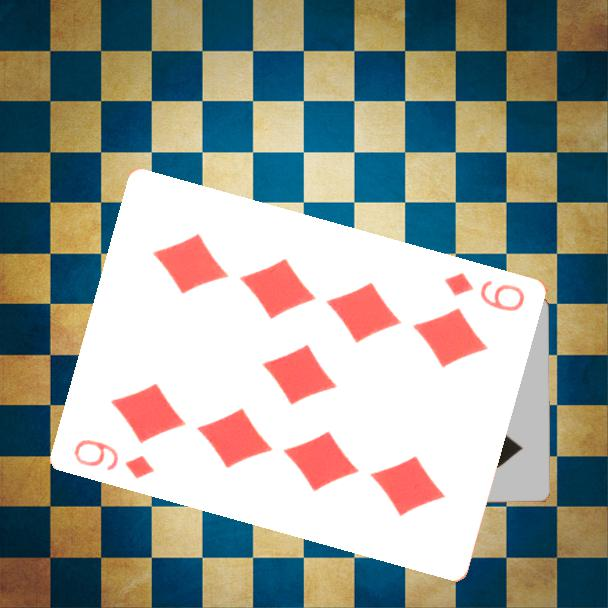d09: (71, 435, 158, 482), (441, 269, 529, 314)
